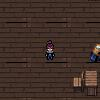Obstacle: (72, 68, 100, 99)
Victim: (42, 38, 58, 61)
Win: (84, 42, 100, 63)
